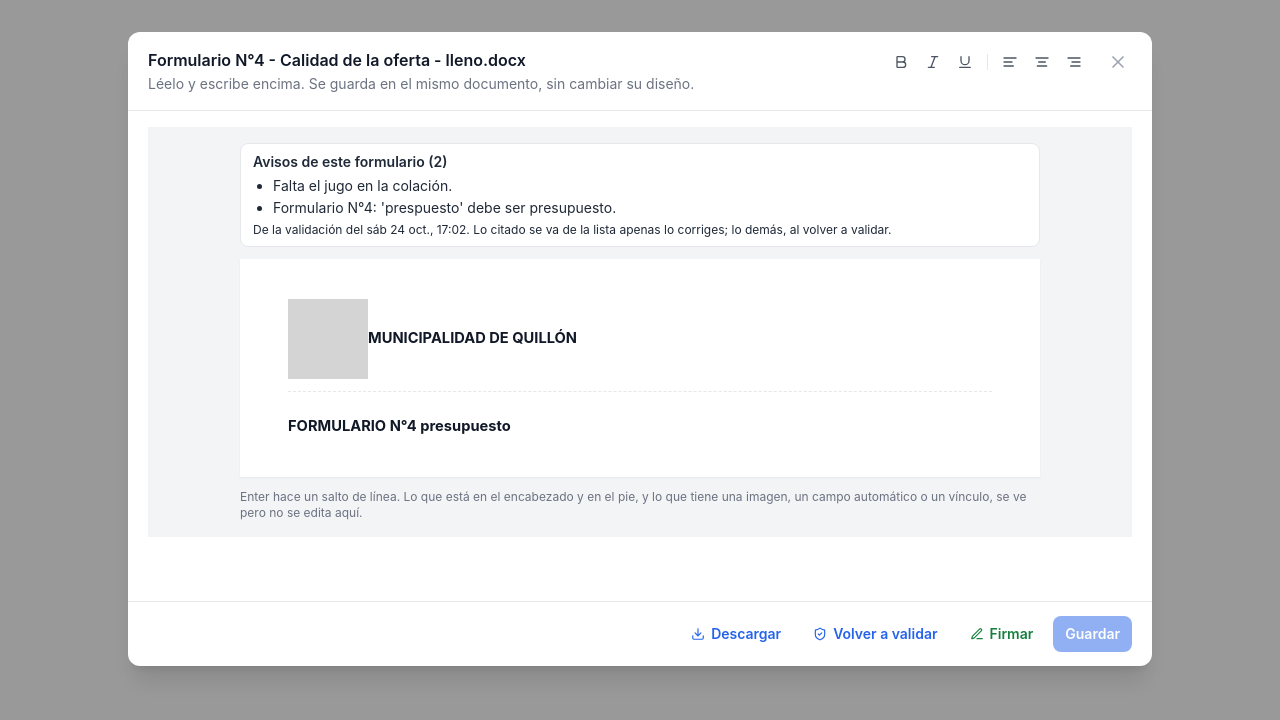
Test: El documento, para verlo y editarlo › arriba van los avisos de este formulario, no la validación de toda la postulación, y lo corregido se va (26-10)
This screenshot has width=1280, height=720.
Check: the text "Avisos de este formulario (2)" is shown, box [253,153,447,170]
Check: the list item "Falta el jugo en la colación." is shown, box [273,177,452,194]
Clear the text box labelled "FORMULARIO N°4 presupuesto": (399, 426) [288,417,511,435]
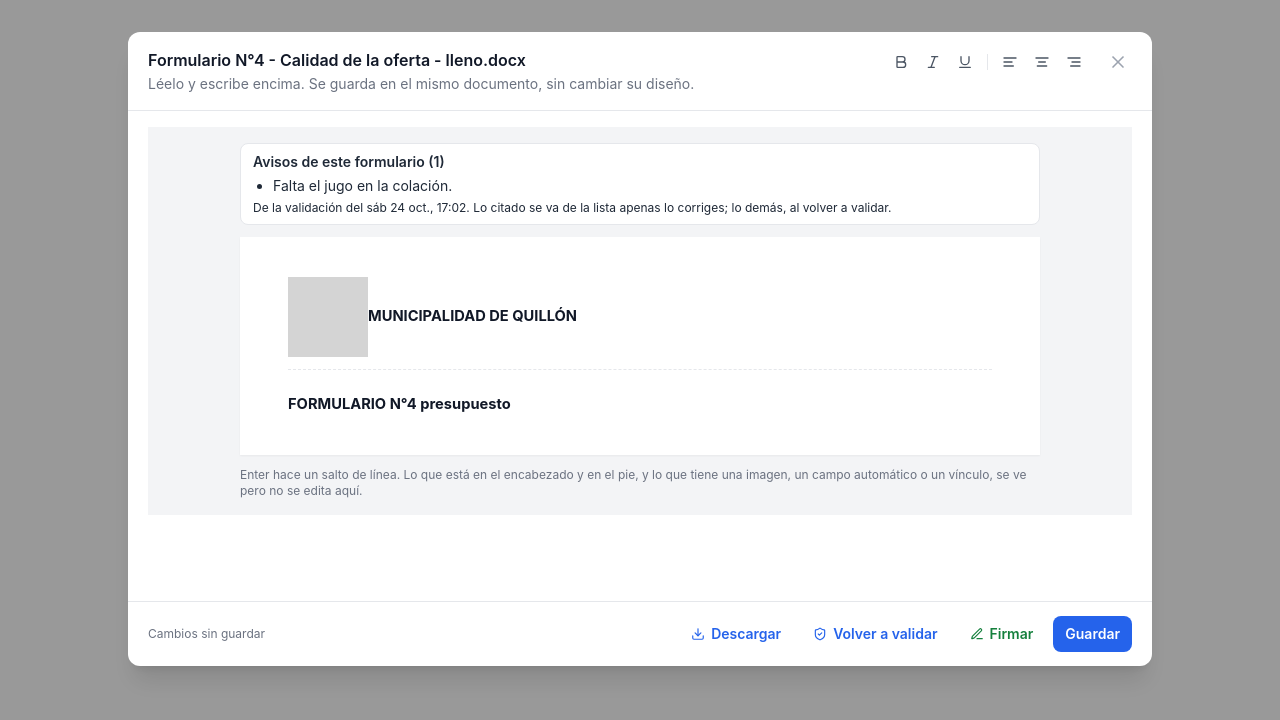
Check: the text "Avisos de este formulario (1)" is shown, box [253,153,445,170]
Check: the list item "Formulario N°4: 'prespuesto' debe ser presupuesto." is gone
